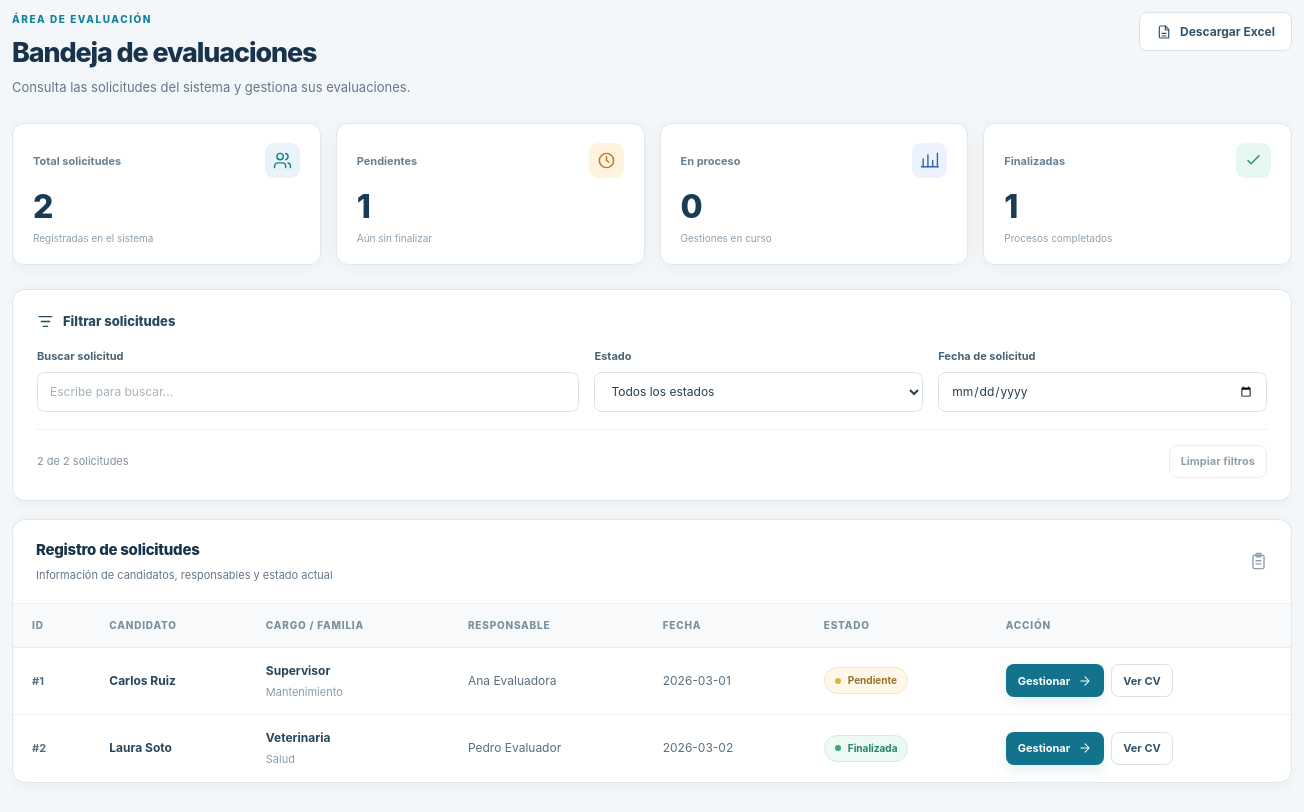
Test case: Vista ListadoSolicitudes › debe listar las solicitudes y permitir filtrar por búsqueda, fecha y limpiar filtros
Expected: the text "Carlos Ruiz" is shown, top-left (109, 673), bottom-right (176, 688)
Expected: the text "Laura Soto" is shown, top-left (109, 740), bottom-right (172, 756)
Type "Carlos" into the search field labelled "Buscar solicitud" at x=308, y=392, box top-left (37, 372), bottom-right (580, 412)
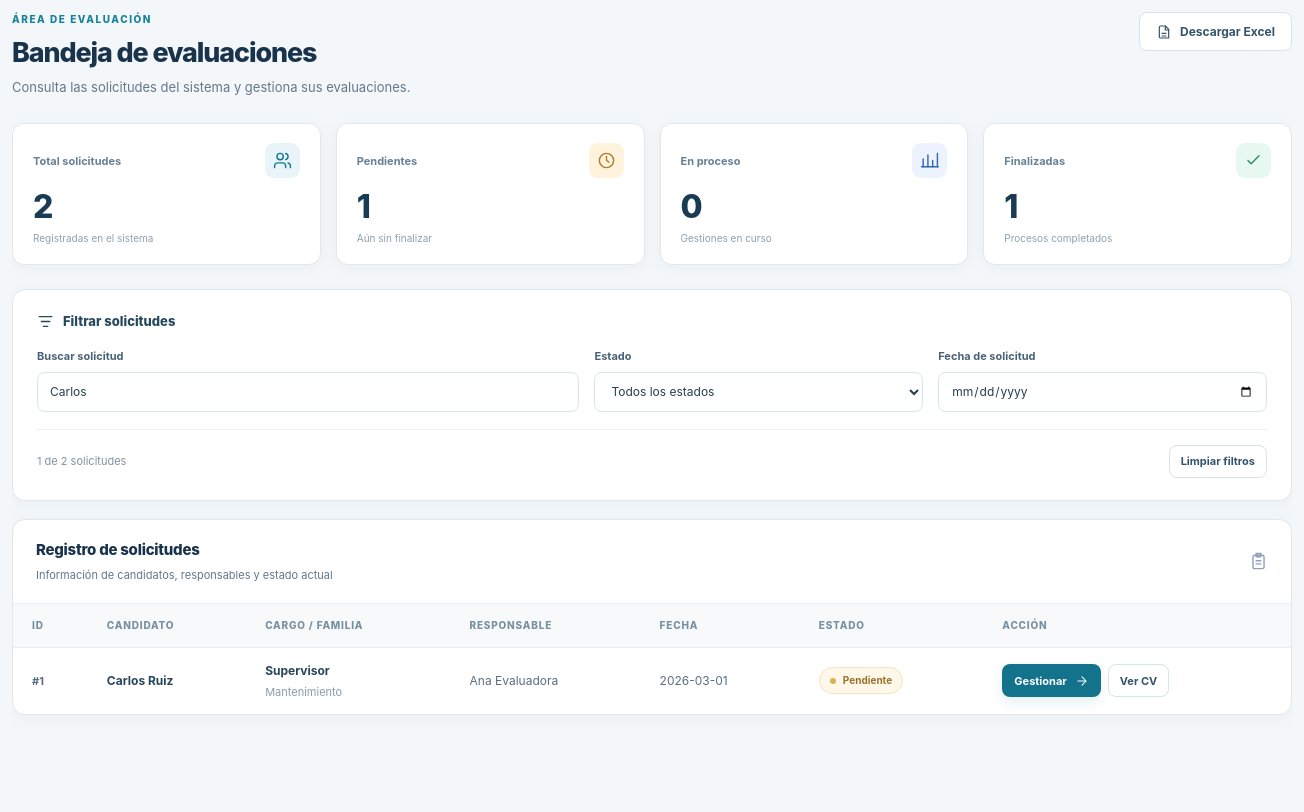
Expected: the text "Carlos Ruiz" is shown, top-left (107, 673), bottom-right (174, 688)
Result: the text "Laura Soto" is gone
Result: the button "Limpiar filtros" is enabled
Click the button "Limpiar filtros" at x=1218, y=461, box top-left (1169, 445), bottom-right (1267, 478)
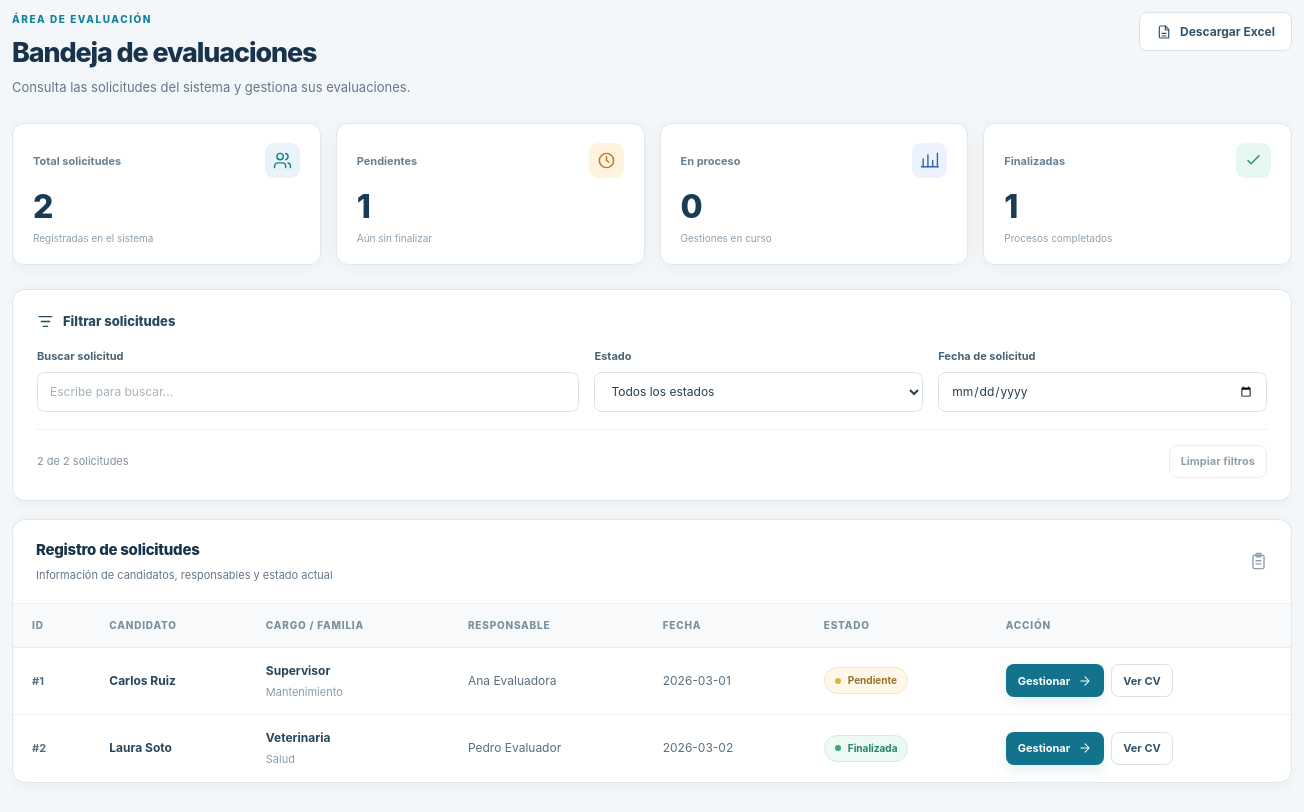
Result: the text "Laura Soto" is shown at top-left (109, 740), bottom-right (172, 756)
Note: Filtrar por fecha
Type "2026-03-02" into the date field labelled "Fecha de solicitud" at x=1103, y=392, box top-left (938, 372), bottom-right (1267, 412)
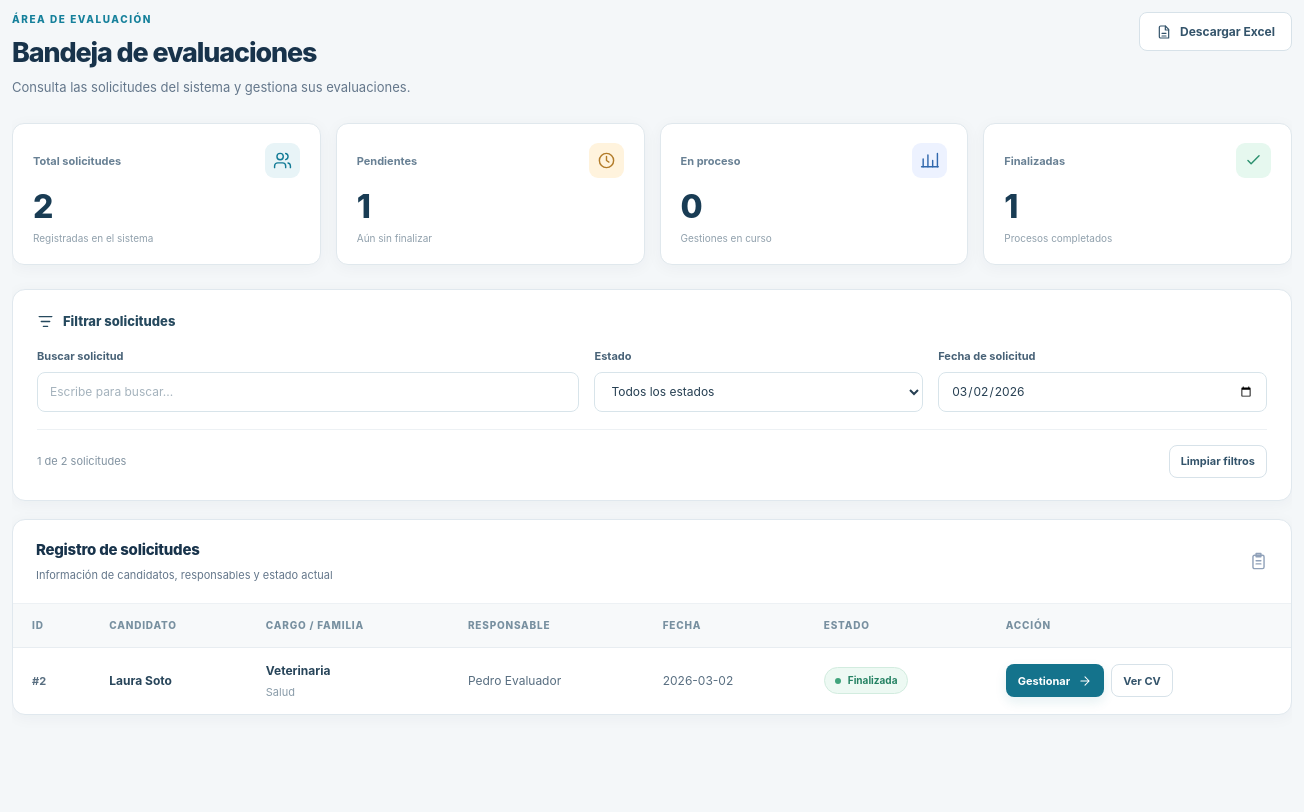
Result: the text "Laura Soto" is shown at top-left (109, 673), bottom-right (172, 688)
Result: the text "Carlos Ruiz" is gone
